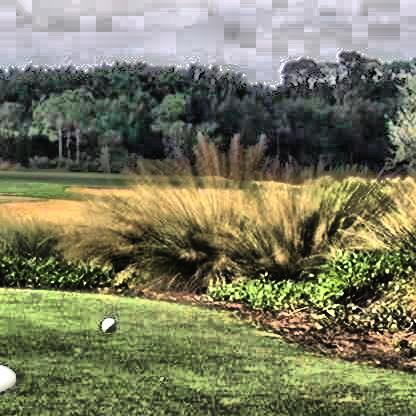golfball: (99, 314, 114, 330)
